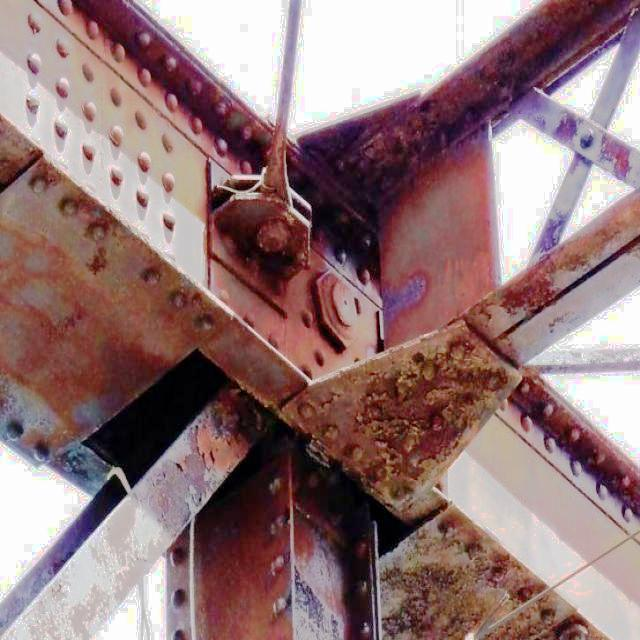Corrosion: (0, 114, 530, 516), (293, 0, 640, 219), (3, 389, 266, 640), (376, 485, 615, 640), (468, 186, 640, 343), (208, 128, 314, 319), (292, 519, 352, 637), (194, 77, 268, 156), (531, 202, 573, 268), (590, 129, 634, 188), (546, 108, 584, 150)
